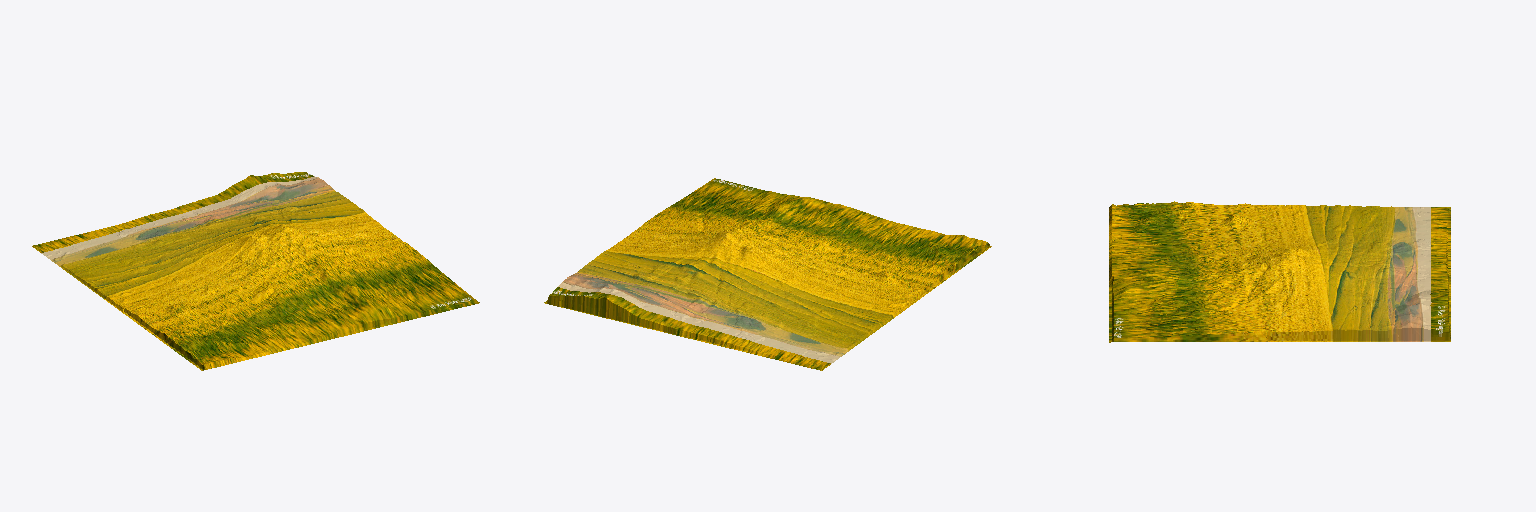
The picture shows the model from 3 angles: view 1: azimuth 30°, elevation 25°; view 2: azimuth 150°, elevation 25°; view 3: azimuth 270°, elevation 25°; orthographic projection.
Parts seen in each view (by area): view 1: vue_ready_shasta.003; view 2: vue_ready_shasta.003; view 3: vue_ready_shasta.003.
Part boxes in pixels (x1,y1,x2,y2): vue_ready_shasta.003: (32, 172, 479, 370); vue_ready_shasta.003: (544, 178, 991, 370); vue_ready_shasta.003: (1109, 201, 1450, 342).
Bounding box in the file's own units: 15.95 × 2.04 × 16.94.
1 materials, 1 textured.